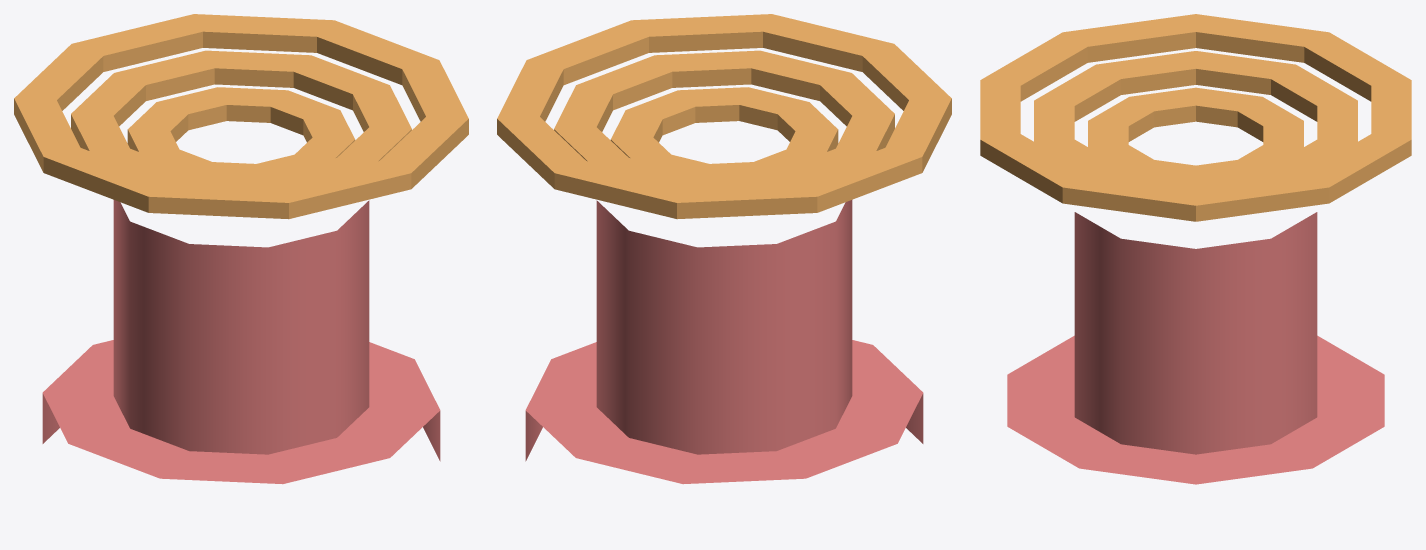
File: set_sonido.glb
3 views of the same model, side by side, from view 1: azimuth 30°, elevation 25°; view 2: azimuth 150°, elevation 25°; view 3: azimuth 270°, elevation 25° (orthographic).
Visible parts, largest first — view 1: vaso, anillo_2, base, anillo_1, anillo_0; view 2: vaso, anillo_2, base, anillo_1, anillo_0; view 3: vaso, anillo_2, base, anillo_1, anillo_0.
Boxes of the visible parts, <box> form: vaso: <box>113,200,369,454</box>; anillo_2: <box>14,14,468,219</box>; base: <box>42,340,440,484</box>; anillo_1: <box>71,50,411,185</box>; anillo_0: <box>127,87,355,174</box>; vaso: <box>596,200,852,454</box>; anillo_2: <box>497,14,951,219</box>; base: <box>525,340,923,484</box>; anillo_1: <box>554,50,894,185</box>; anillo_0: <box>610,87,838,174</box>; vaso: <box>1074,212,1317,454</box>; anillo_2: <box>980,14,1411,221</box>; base: <box>1007,335,1384,484</box>; anillo_1: <box>1034,51,1357,187</box>; anillo_0: <box>1088,87,1303,176</box>.
Size of the model in its own units: 0.64 by 0.5325 by 0.6087.
